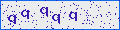q: (39, 7, 49, 17), (7, 15, 17, 24), (21, 10, 30, 20), (52, 14, 61, 24), (69, 12, 77, 21)
